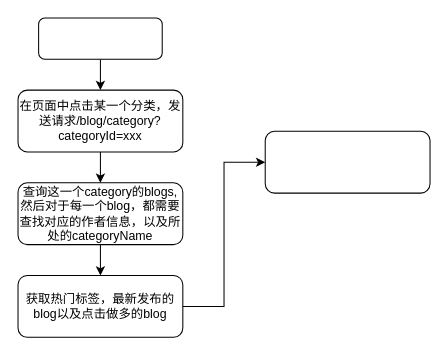
The diagram is 448 pixels wide and 355 high, and some of its shapes have lost their labels. The shapes that lost their labels are listed below. From the top down, each one's centre as x and y in pixels, then its label:
pixel 100 38: 开始
pixel 347 161: 将数据返回到/blog/amaze/list.html中进行渲染
